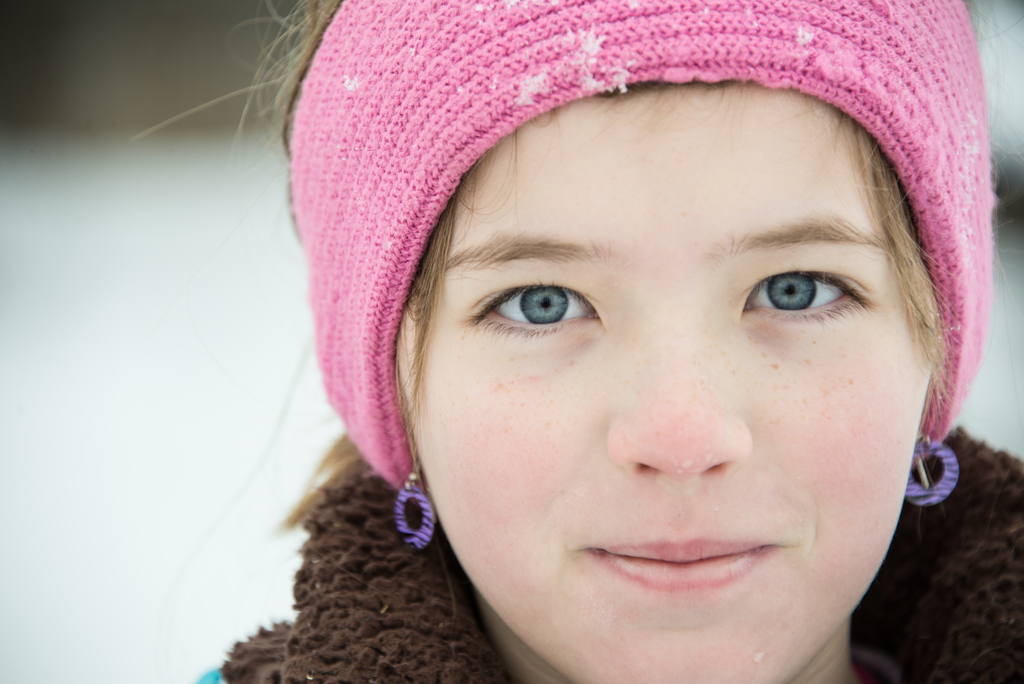Human-face: (410, 81, 940, 683)
